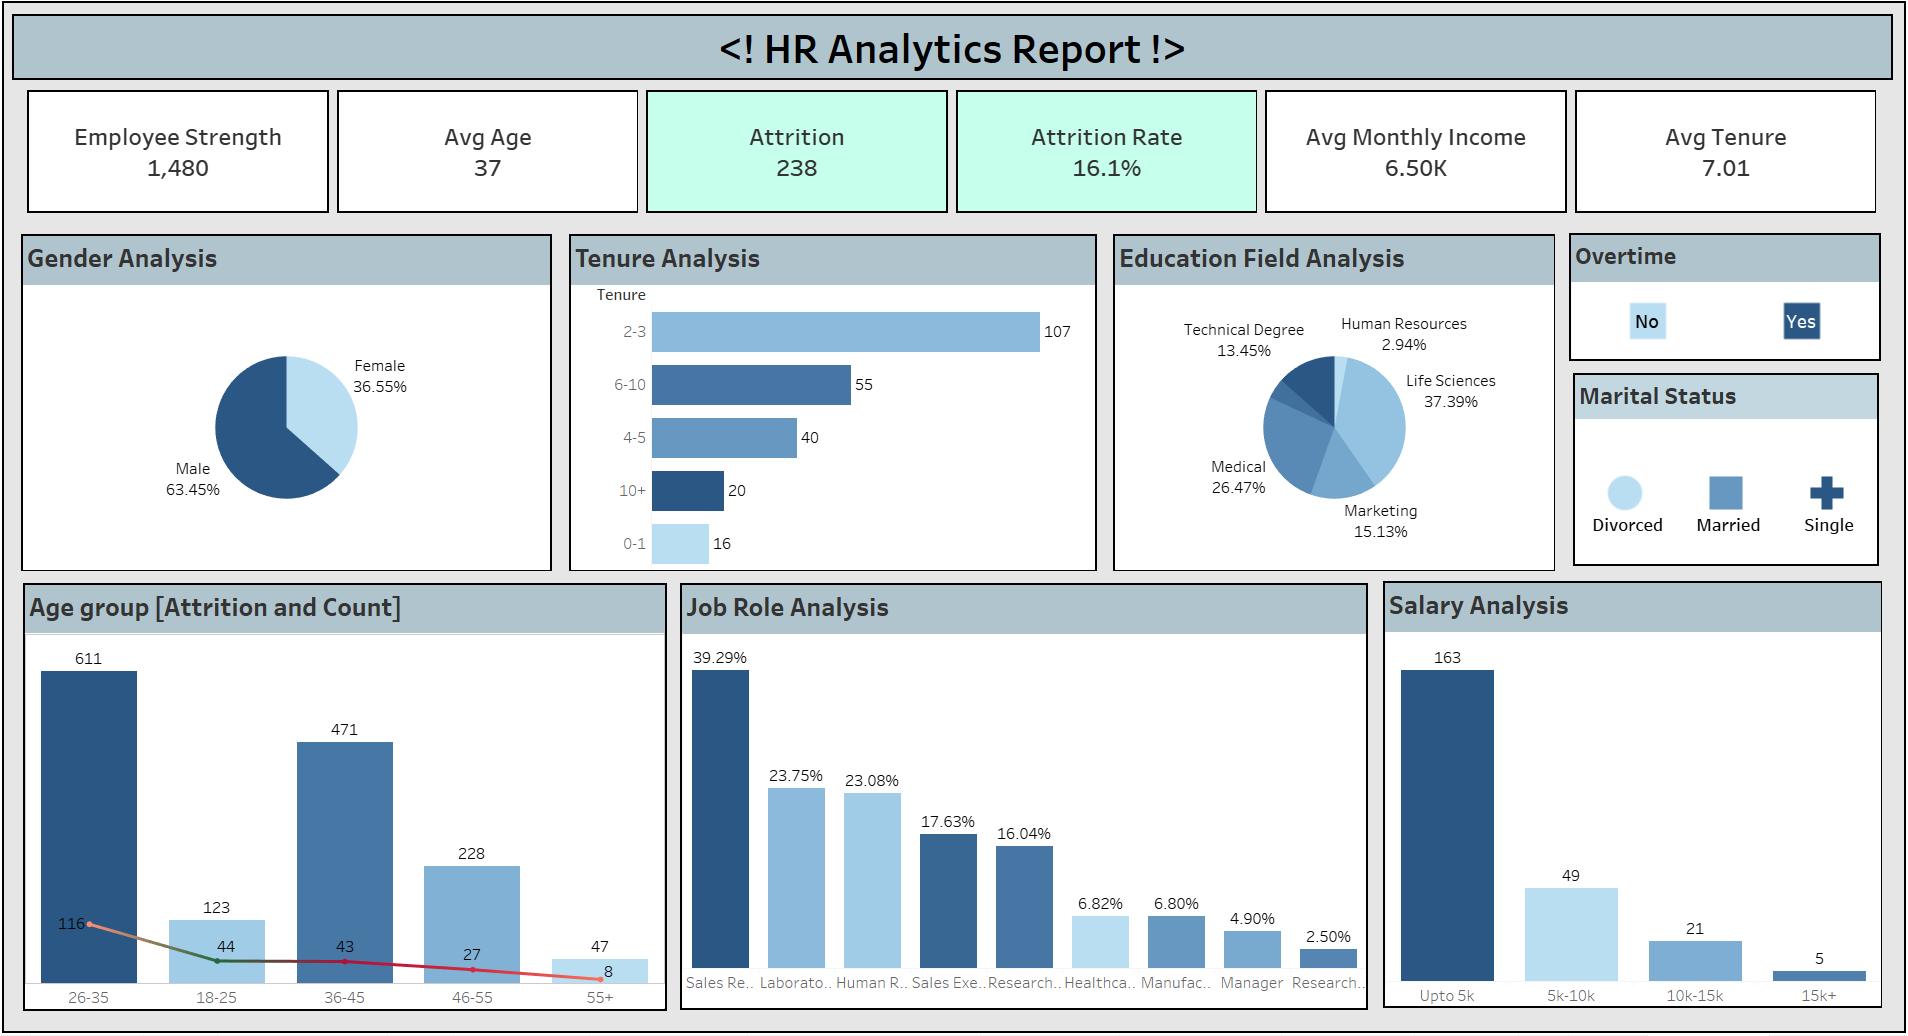

The dashboard page shown, as its layout file describes it:
{"tool":"tableau","page":{"name":"Dashboard 1","canvas":[1000,1000],"units":"permille","ordinal":0},"visuals":[{"type":"blank","box":[4.2,8.2,991.6,989.4]},{"type":"legend","title":"marital filter","param":"[federated.00ukz6g0gkn4dk116jtzb02f7n7f].[none:MaritalStatus:nk]","box":[898.6,9.4,96.6,109.3]},{"type":"text","box":[7.2,17.6,983.7,70.5]},{"type":"worksheet","title":"emp count","mark":"Automatic","box":[15.1,90.5,161.2,125.7]},{"type":"worksheet","title":"Avg Age","mark":"Automatic","box":[176.3,90.5,161.2,125.7]},{"type":"worksheet","title":"attrition","mark":"Automatic","box":[337.6,90.5,161.2,125.7]},{"type":"worksheet","title":"Attrition Rate","mark":"Automatic","box":[498.8,90.5,161.2,125.7]},{"type":"worksheet","title":"Avg monthly(income)","mark":"Automatic","box":[660,90.5,161.2,125.7]},{"type":"worksheet","title":"Tenure","mark":"Automatic","box":[821.2,90.5,161.2,125.7]},{"type":"worksheet","title":"overtime","mark":"Shape","rows":["Calculation_1694760882624704521"],"cols":["OverTime"],"box":[818.4,226.8,166.6,130.4]},{"type":"worksheet","title":"gender(attrition)","mark":"Pie","box":[12.1,228,280.6,331.4]},{"type":"worksheet","title":"tenure(attrition)","mark":"Bar","rows":["Calculation_1694760882561007618"],"cols":["Calculation_1694760882537050112"],"box":[297.5,228,279.4,331.3]},{"type":"worksheet","title":"Education(attrition)","mark":"Pie","box":[580.6,228,234.8,331.4]},{"type":"worksheet","title":"marital filter","mark":"Shape","rows":["Calculation_1694760882622038022"],"cols":["MaritalStatus"],"box":[820.2,361.9,163.6,192.7]},{"type":"worksheet","title":"salary slab(attrition)","mark":"Bar","rows":["Calculation_1694760882537050112"],"cols":["SalarySlab"],"box":[721.2,560.5,264.3,417.2]},{"type":"worksheet","title":"Agegrp (attrition& emp count)","mark":"Automatic","rows":["Calculation_1694760882537050112","EmployeeCount"],"cols":["AgeGroup"],"box":[13.3,562.9,339.8,418.3]},{"type":"worksheet","title":"job role(attrition)","mark":"Bar","rows":["Calculation_1694760882537050112"],"cols":["JobRole"],"box":[355.5,562.9,362.7,417.2]}]}

Visuals, with their boxes on the dashboard's canvas, which has no fixed pixel size, in thousandths of its width and height (x1, y1, x2, y2). These are canvas units, not pixel positions in the 1908x1036 screenshot, which may show the page scaled, cropped or inside an application window:
blank: crop(4, 8, 996, 998)
"marital filter" legend: crop(899, 9, 995, 119)
text: crop(7, 18, 991, 88)
"emp count" worksheet: crop(15, 90, 176, 216)
"Avg Age" worksheet: crop(176, 90, 338, 216)
"attrition" worksheet: crop(338, 90, 499, 216)
"Attrition Rate" worksheet: crop(499, 90, 660, 216)
"Avg monthly(income)" worksheet: crop(660, 90, 821, 216)
"Tenure" worksheet: crop(821, 90, 982, 216)
"overtime" worksheet (Shape marks): crop(818, 227, 985, 357)
"gender(attrition)" worksheet (Pie marks): crop(12, 228, 293, 559)
"tenure(attrition)" worksheet (Bar marks): crop(298, 228, 577, 559)
"Education(attrition)" worksheet (Pie marks): crop(581, 228, 815, 559)
"marital filter" worksheet (Shape marks): crop(820, 362, 984, 555)
"salary slab(attrition)" worksheet (Bar marks): crop(721, 560, 986, 978)
"Agegrp (attrition& emp count)" worksheet: crop(13, 563, 353, 981)
"job role(attrition)" worksheet (Bar marks): crop(356, 563, 718, 980)
